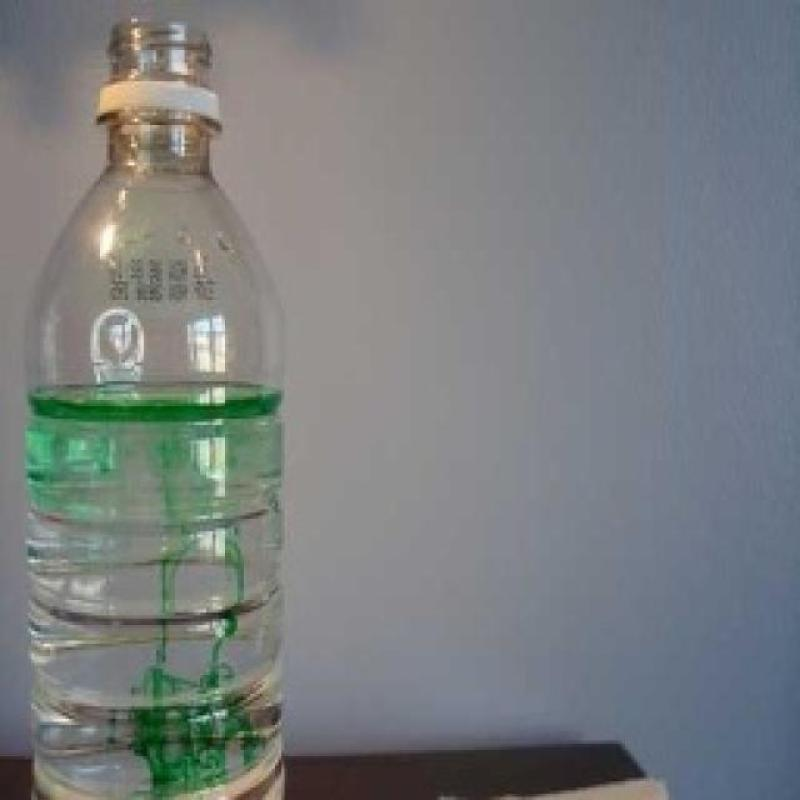botella: (23, 15, 292, 800)
